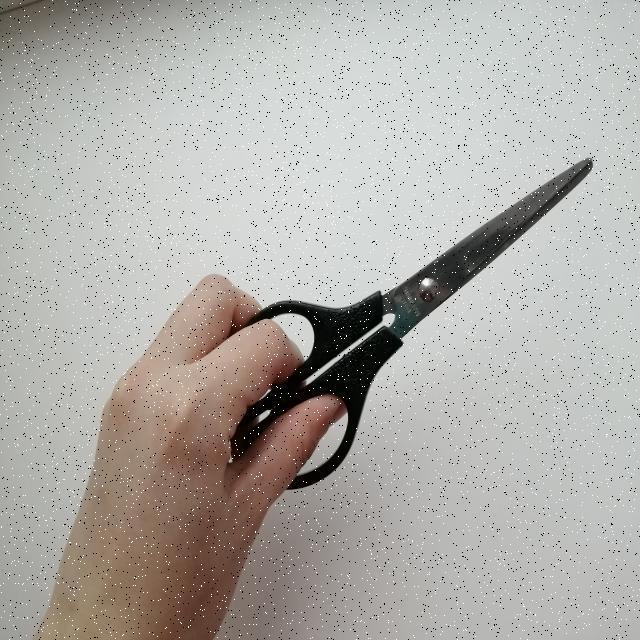scissors: (222, 148, 597, 492)
